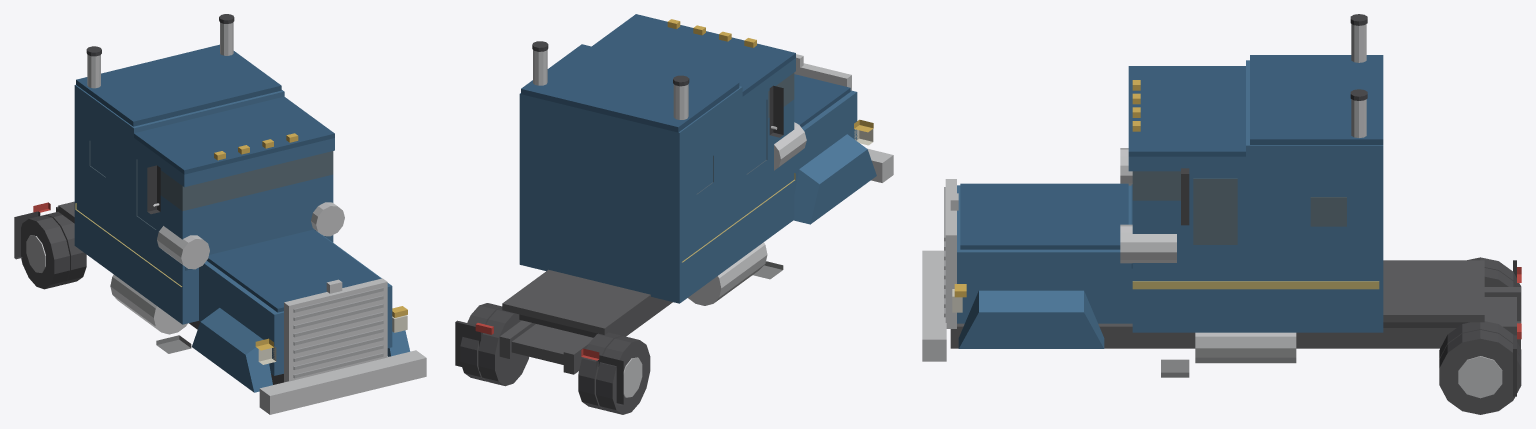
The model's file is semi_body.glb.
The picture shows the model from 3 angles, left to right: view 1: azimuth 30°, elevation 25°; view 2: azimuth 150°, elevation 25°; view 3: azimuth 270°, elevation 25°; orthographic projection. The views are drawn at different scales.
Visible parts, largest first — view 1: semi_body; view 2: semi_body; view 3: semi_body.
Part boxes in pixels (left/top/right/bottom): semi_body: left=14, top=14, right=426, bottom=414; semi_body: left=455, top=14, right=893, bottom=414; semi_body: left=922, top=14, right=1521, bottom=414.
Size of the model in its own units: 2.86 by 4.35 by 7.41.
